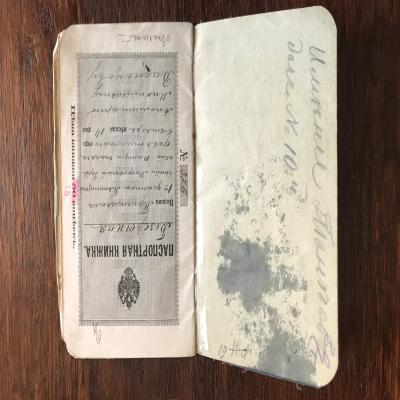document: (52, 7, 341, 390)
